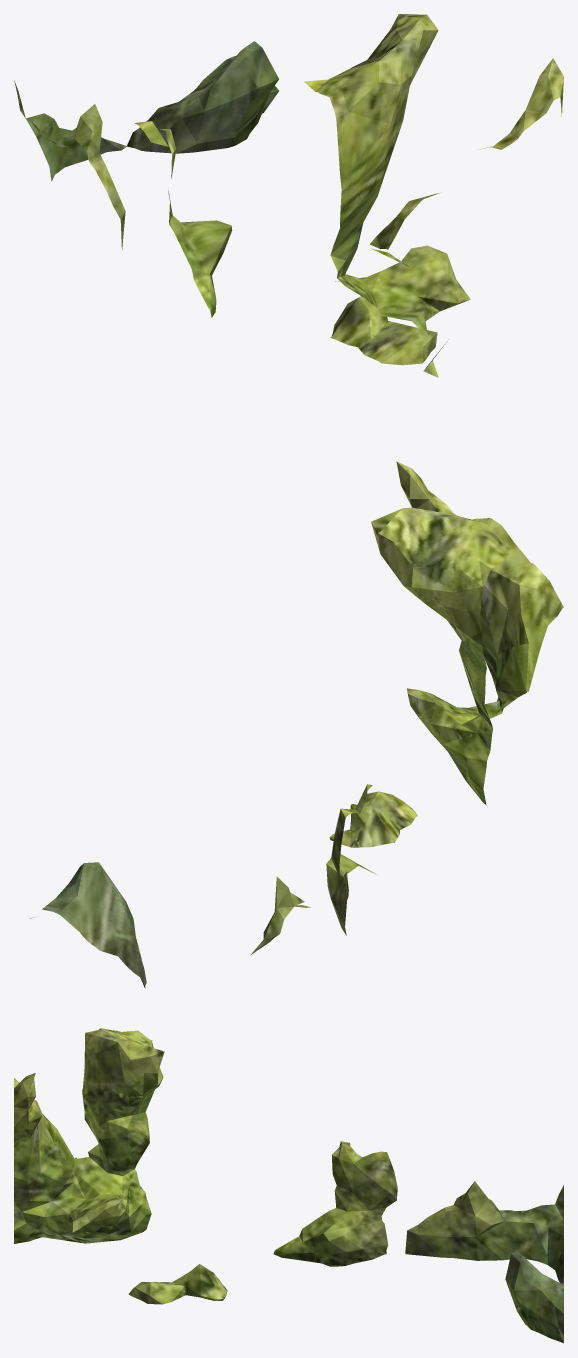
3 renders of one model, top to bottom at view 1: azimuth 30°, elevation 25°; view 2: azimuth 150°, elevation 25°; view 3: azimuth 270°, elevation 25°, orthographic. The views are drawn at different scales.
Bounding box in the file's own units: 1.21 × 1.5 × 2.95.
1 material, 1 textured.
